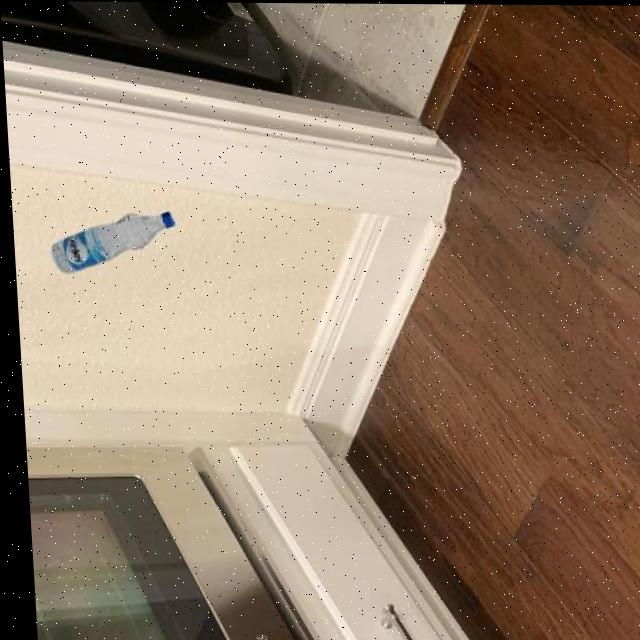bottle: (43, 209, 174, 274)
